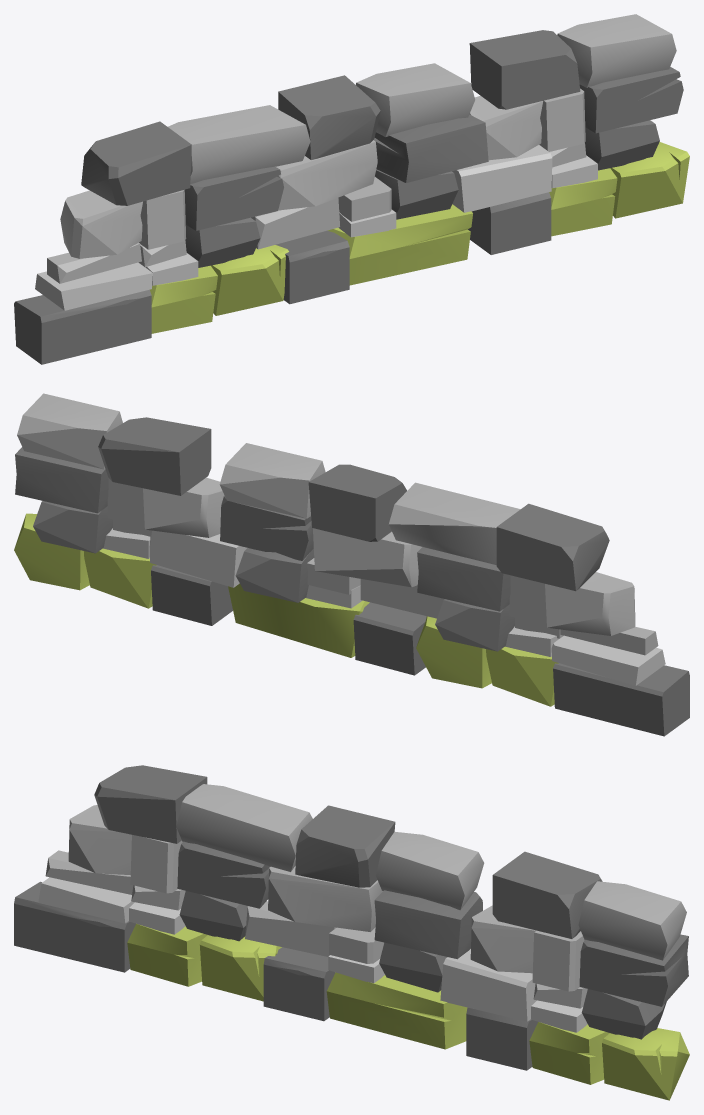
The model's file is EA03_Fence_Cobble_01b.glb.
The picture shows the model from 3 angles, top to bottom: view 1: azimuth 30°, elevation 25°; view 2: azimuth 150°, elevation 25°; view 3: azimuth 330°, elevation 25°; orthographic projection.
Parts seen in each view (by area): view 1: EA03_Fence_Cobble_01b; view 2: EA03_Fence_Cobble_01b; view 3: EA03_Fence_Cobble_01b.
Part boxes in pixels (x1,y1,x2,y2): EA03_Fence_Cobble_01b: (14, 14, 689, 364); EA03_Fence_Cobble_01b: (14, 393, 689, 736); EA03_Fence_Cobble_01b: (14, 765, 689, 1100).
Bounding box in the file's own units: 6.26 × 1.64 × 0.7873.
Materials: 1 (1 with a texture image).
